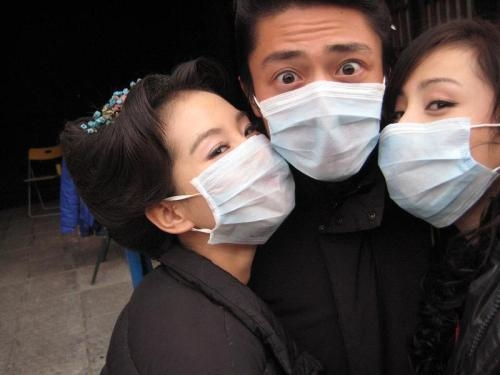face_mask: (256, 10, 387, 182), (379, 48, 492, 220), (177, 94, 287, 234)
